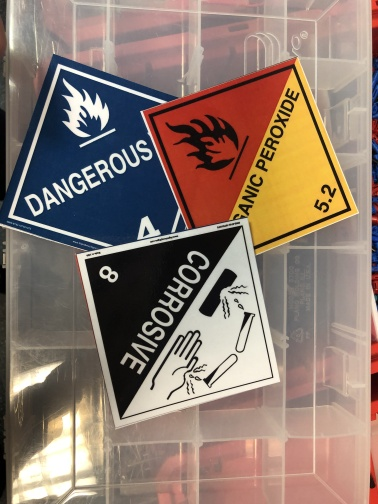Corrosive: (76, 218, 282, 431)
DangerousWhenWet: (4, 54, 189, 252)
OrganicPeroxide: (139, 59, 360, 255)
